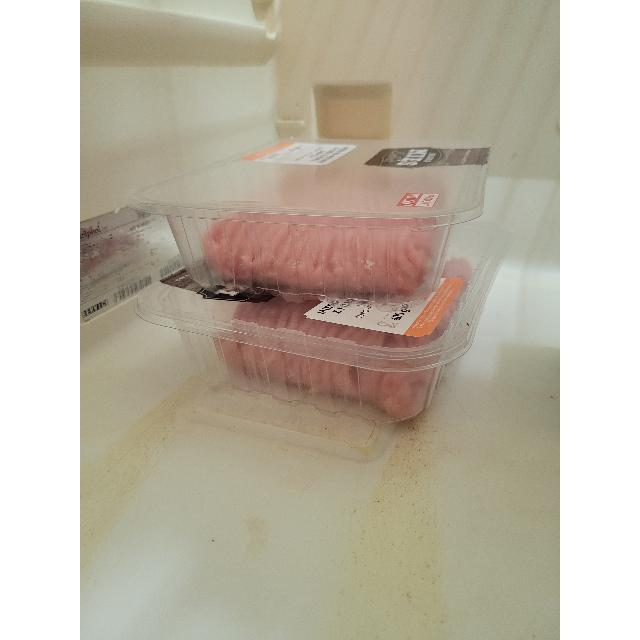milk: (211, 274, 467, 418), (216, 172, 468, 292)
